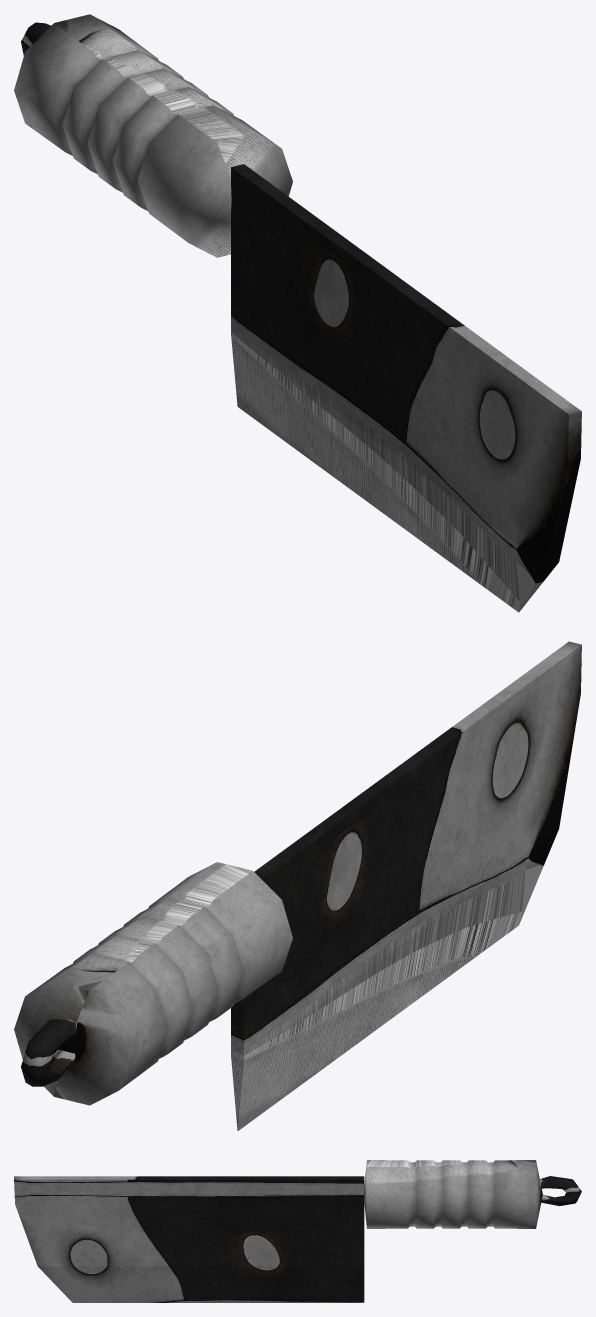
3 views of the same model, one above another, from view 1: azimuth 30°, elevation 25°; view 2: azimuth 150°, elevation 25°; view 3: azimuth 270°, elevation 25° (orthographic). The views are drawn at different scales.
Size of the model in its own units: 0.1222 by 0.2688 by 1.
